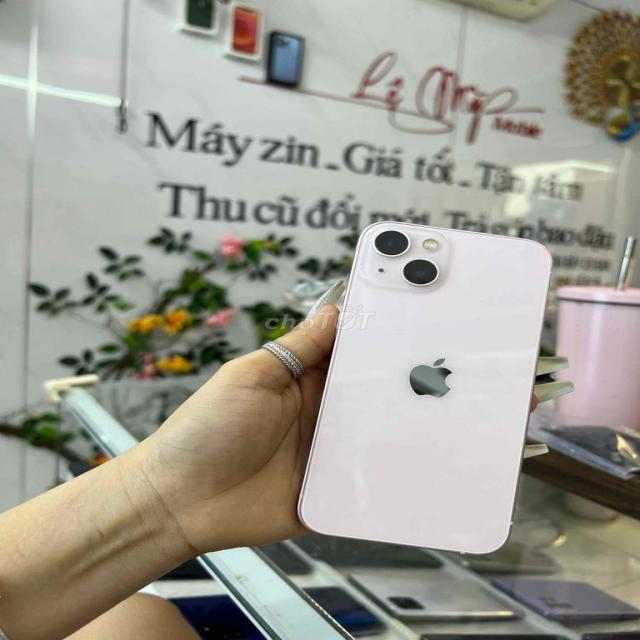gen_12_13: (288, 212, 563, 562)
